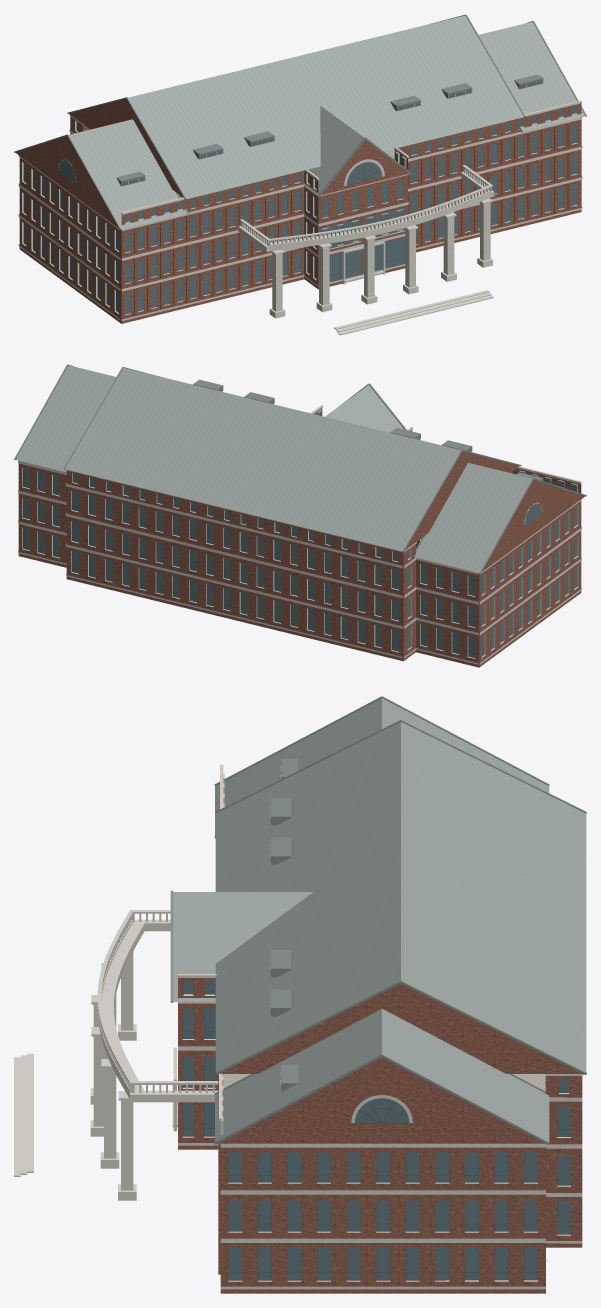
The picture shows the model from 3 angles, top to bottom: view 1: azimuth 30°, elevation 25°; view 2: azimuth 150°, elevation 25°; view 3: azimuth 270°, elevation 25°; orthographic projection. The views are drawn at different scales.
Parts seen in each view (by area): view 1: library__centralRoof, library__facade_11, library__facade_06, library__facade_12, library__leftWingRoof, library__horizontalStoneBands, library__facade_11__window, library__rightWingRoof, library__facade_06__window, library__frontBrickPiers, library__porticoColumn, library__centralRoofStandingSeams (+32 smaller); view 2: library__centralRoof, library__facade_02, library__facade_02__window, library__leftWingRoof, library__horizontalStoneBands, library__facade_12, library__rightWingRoof, library__facade_00, library__centralRoofStandingSeams, library__facade_04, library__facade_02__reveal, library__leftWingRoofGable (+15 smaller); view 3: library__centralRoof, library__facade_05, library__rightWingRoof, library__facade_05__window, library__rightWingRoofGable, library__centralRoofGable, library__centralGableRoof, library__horizontalStoneBands, library__centralRoofStandingSeams, library__leftWingRoof, library__porticoColumn, library__facade_03 (+19 smaller).
Boxes of the visible parts, bbox=[...] form: library__centralRoof: bbox=[128, 15, 523, 198]; library__facade_11: bbox=[121, 170, 304, 323]; library__facade_06: bbox=[398, 103, 581, 252]; library__facade_12: bbox=[19, 157, 121, 323]; library__leftWingRoof: bbox=[69, 119, 187, 229]; library__horizontalStoneBands: bbox=[18, 117, 582, 320]; library__facade_11__window: bbox=[125, 173, 299, 314]; library__rightWingRoof: bbox=[479, 21, 585, 131]; library__facade_06__window: bbox=[399, 106, 576, 243]; library__frontBrickPiers: bbox=[134, 123, 569, 315]; library__porticoColumn: bbox=[272, 202, 490, 311]; library__centralRoofStandingSeams: bbox=[132, 16, 519, 197]; library__centralRoof: bbox=[65, 367, 460, 551]; library__facade_02: bbox=[66, 470, 403, 661]; library__facade_02__window: bbox=[72, 473, 398, 651]; library__leftWingRoof: bbox=[414, 463, 531, 572]; library__horizontalStoneBands: bbox=[18, 461, 581, 664]; library__facade_12: bbox=[479, 501, 581, 667]; library__rightWingRoof: bbox=[15, 365, 115, 472]; library__facade_00: bbox=[416, 559, 479, 667]; library__centralRoofStandingSeams: bbox=[69, 370, 456, 548]; library__facade_04: bbox=[18, 463, 66, 567]; library__facade_02__reveal: bbox=[71, 473, 398, 652]; library__leftWingRoofGable: bbox=[482, 479, 585, 571]; library__centralRoof: bbox=[215, 722, 586, 1071]; library__facade_05: bbox=[220, 1147, 545, 1293]; library__rightWingRoof: bbox=[215, 1009, 549, 1141]; library__facade_05__window: bbox=[228, 1152, 537, 1279]; library__rightWingRoofGable: bbox=[219, 1057, 545, 1143]; library__centralRoofGable: bbox=[220, 984, 582, 1073]; library__centralGableRoof: bbox=[173, 892, 312, 1001]; library__horizontalStoneBands: bbox=[178, 1002, 582, 1289]; library__centralRoofStandingSeams: bbox=[216, 725, 585, 1065]; library__leftWingRoof: bbox=[215, 698, 549, 835]; library__porticoColumn: bbox=[93, 951, 133, 1190]; library__facade_03: bbox=[545, 1076, 582, 1247].
Bounding box in the file's own units: 63.83 × 22.26 × 43.04.
7 materials, 1 textured.
